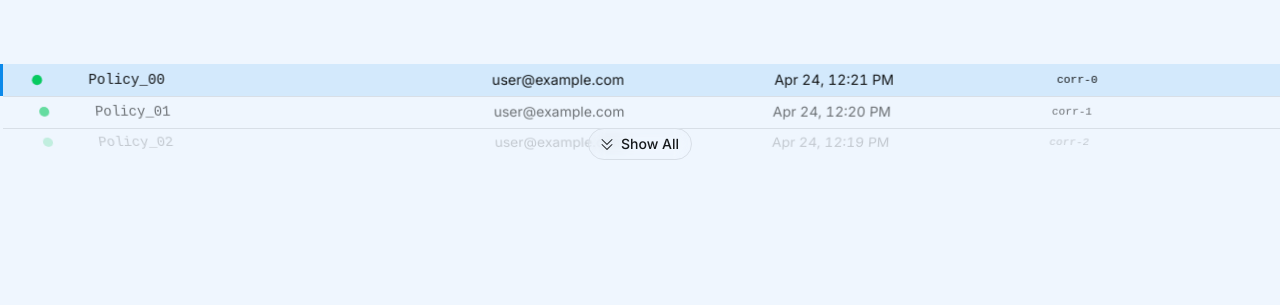
it: FlowPicker › shows headers only in expanded mode
What coordinates should you click on to do the following:
click the button with test id "flow-picker-toggle"
I would click on:
 (640, 144)
Its box is x1=588 y1=128 x2=692 y2=160.
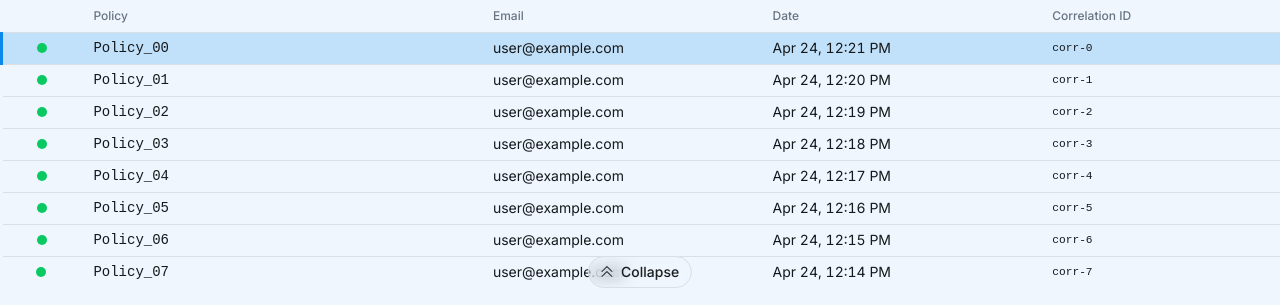
Result: the column heading "Policy" is shown at x1=81 y1=0 x2=481 y2=32
Result: the column heading "Email" is shown at x1=481 y1=0 x2=761 y2=32
Result: the column heading "Date" is shown at x1=761 y1=0 x2=1040 y2=32
